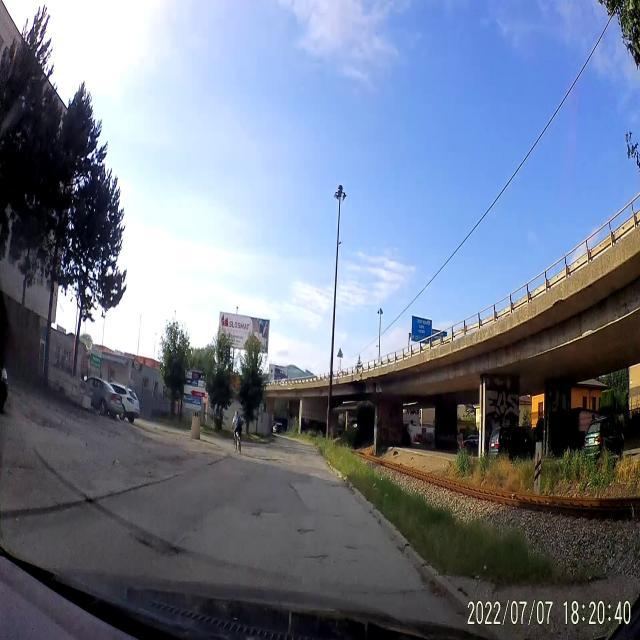Pothole: (124, 525, 189, 563), (248, 502, 284, 530), (292, 517, 316, 537)
